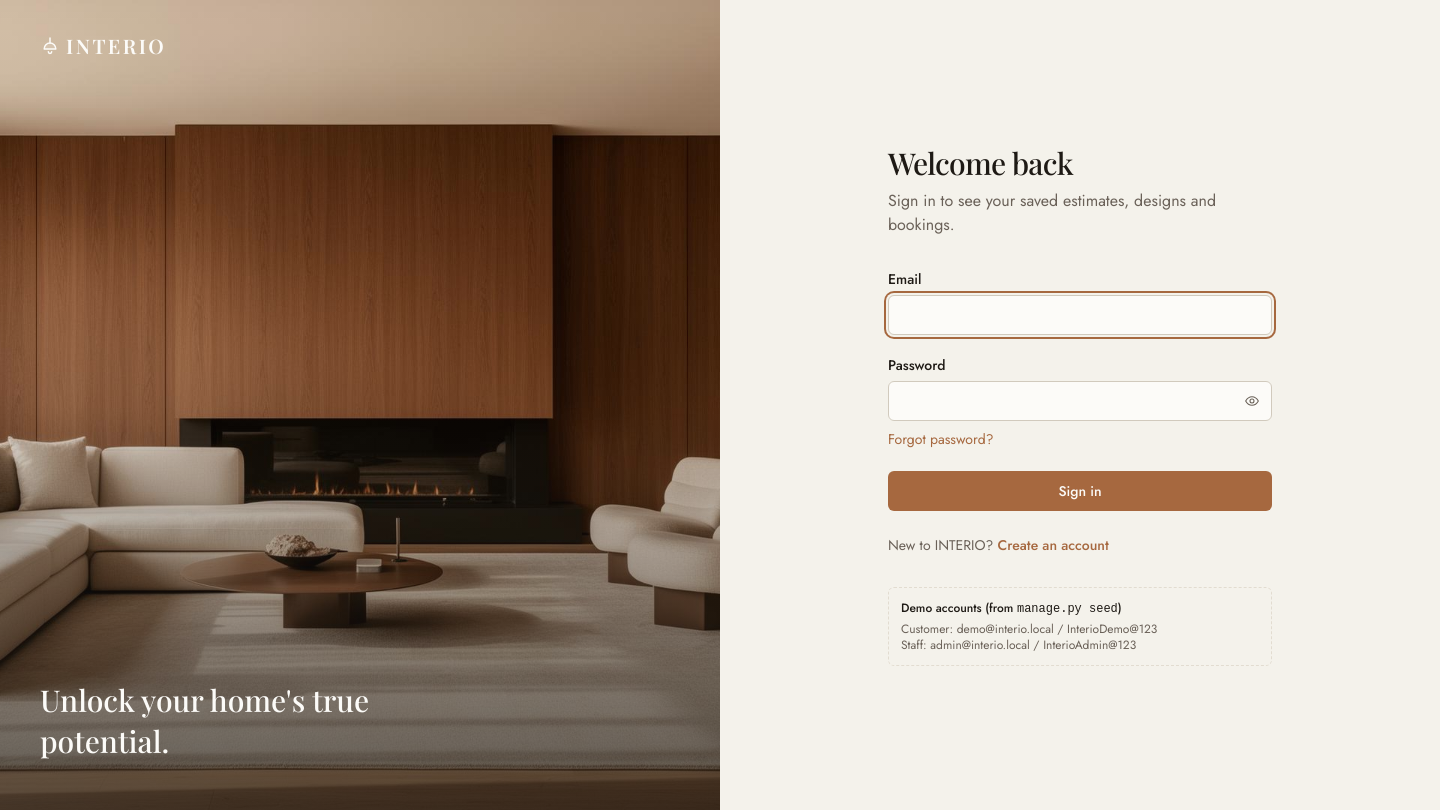
Test case: login page › shows the server message for a wrong password
Type "asha@example.com" into the field labelled "Email" at (1080, 314), box [888,294,1272,334]
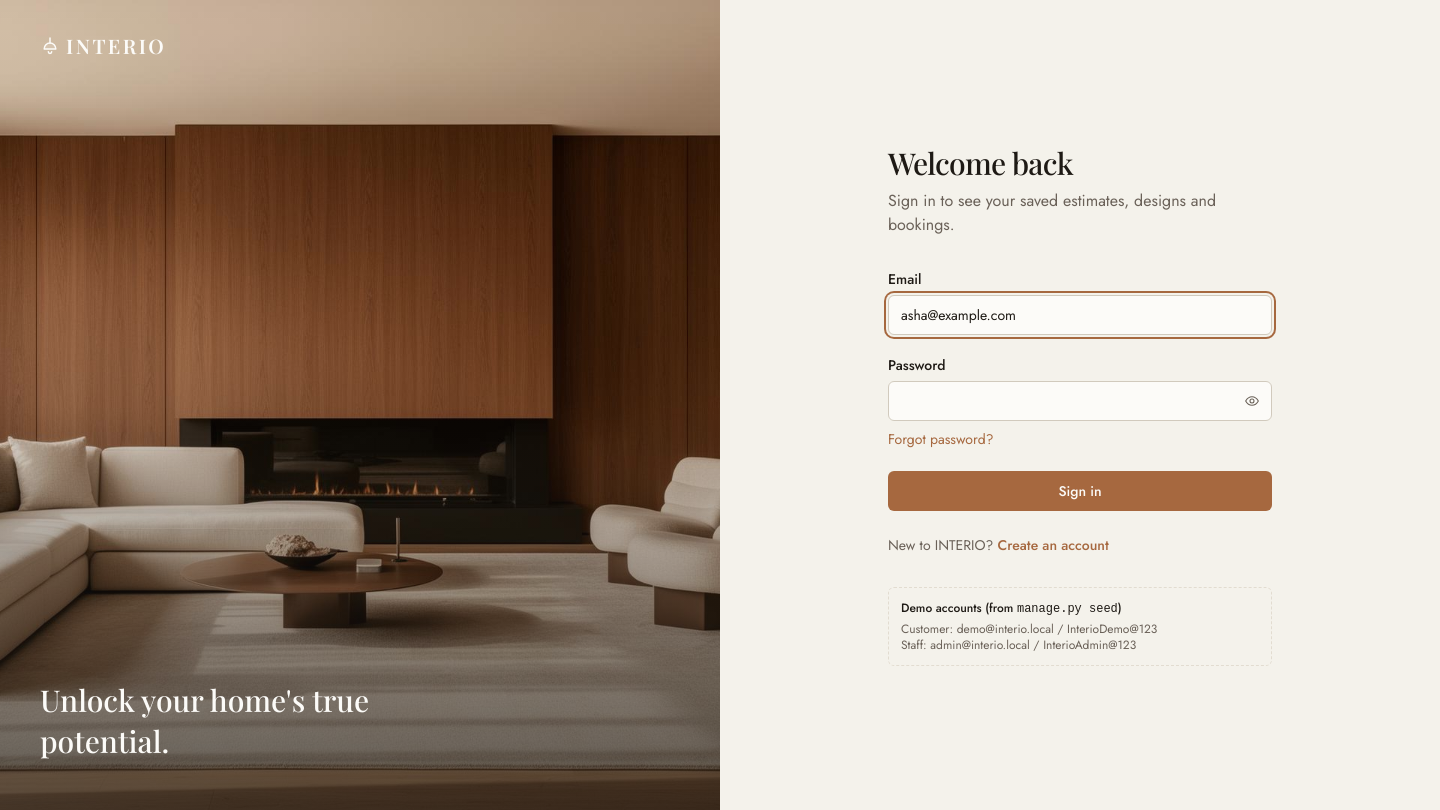
Type "Secret!2026" into the password field labelled "Password" at (1080, 400), box [888,380,1272,420]
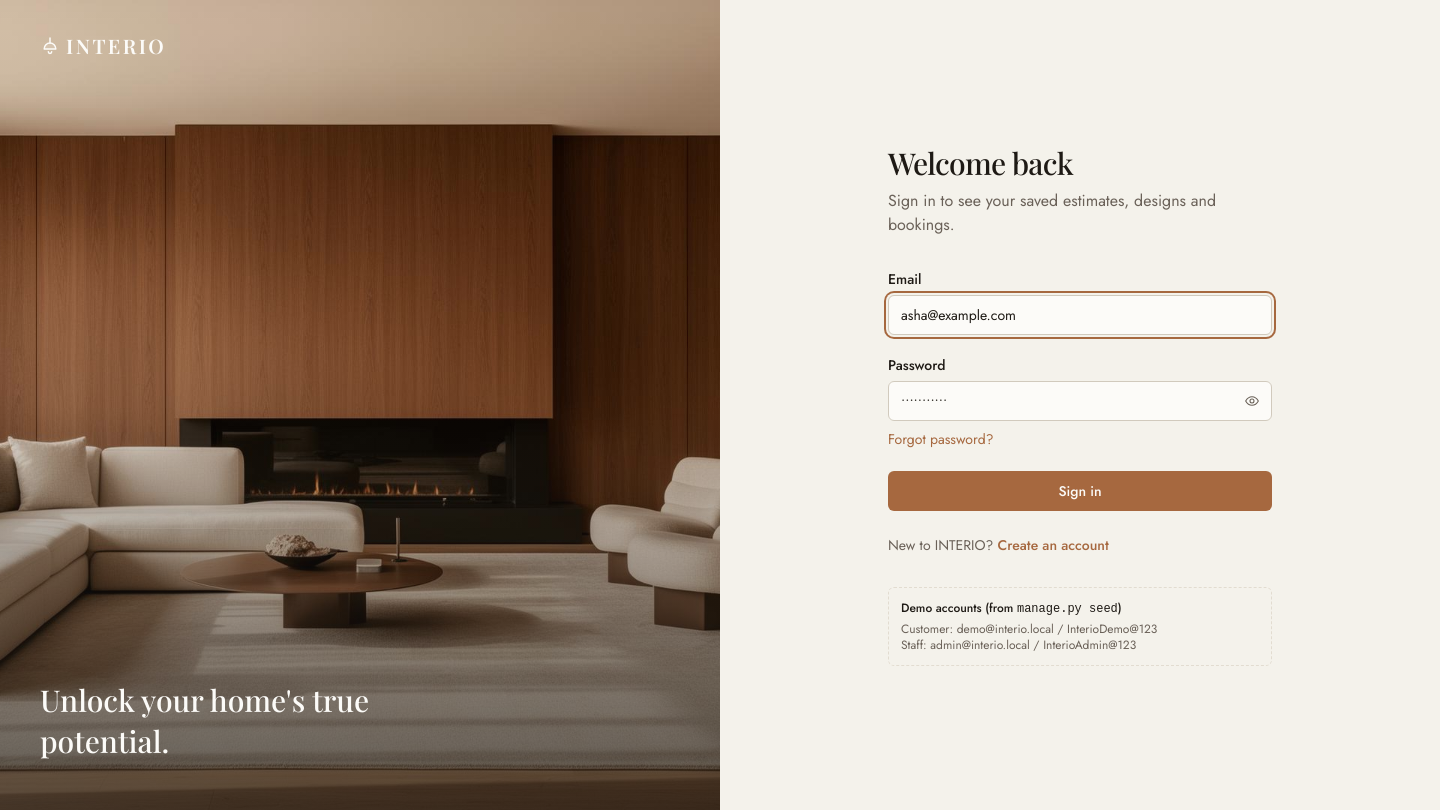
Click the button "Sign in" at (1080, 490), box [888,470,1272,510]
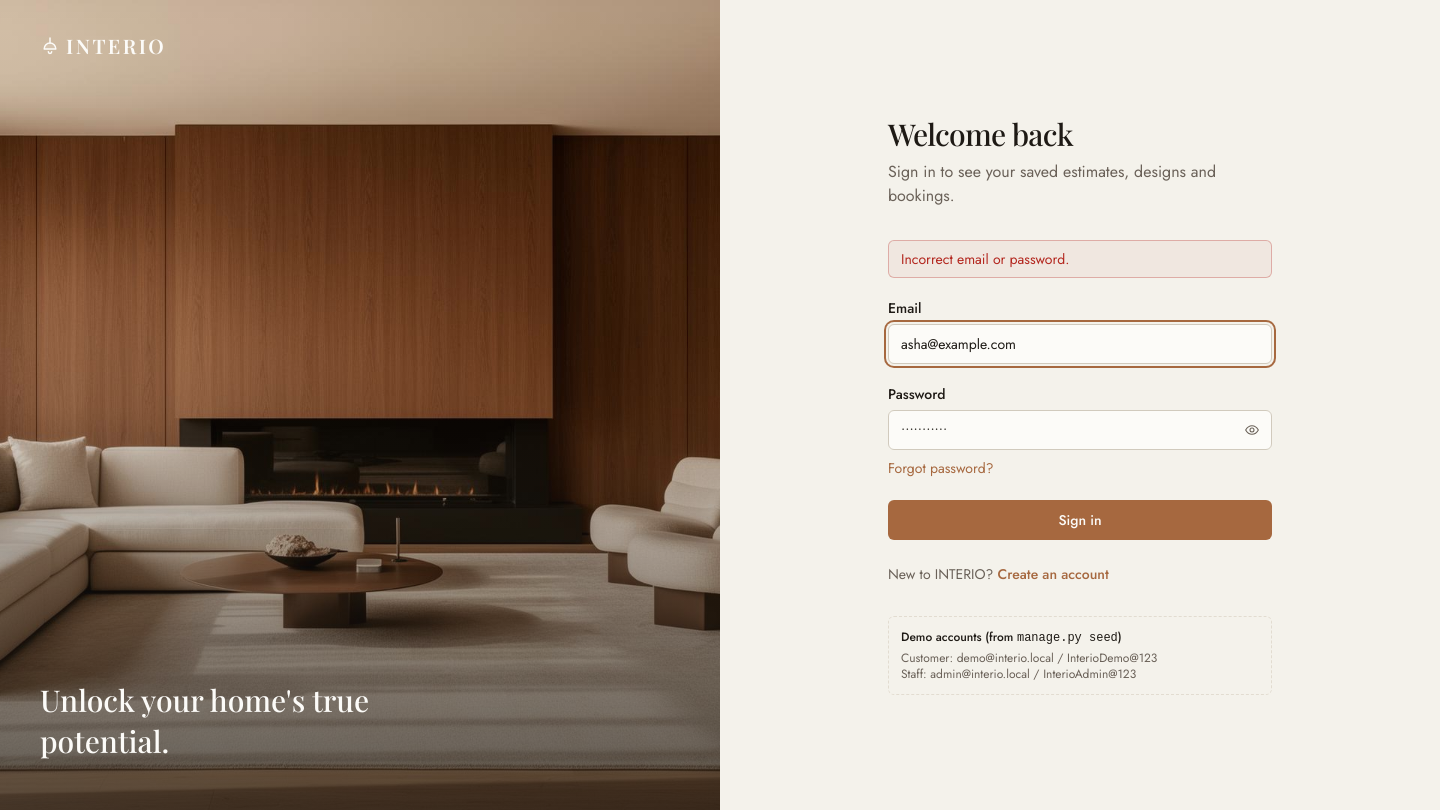
expect the message reads "Incorrect email or password.": met, box [901,248,1069,268]
